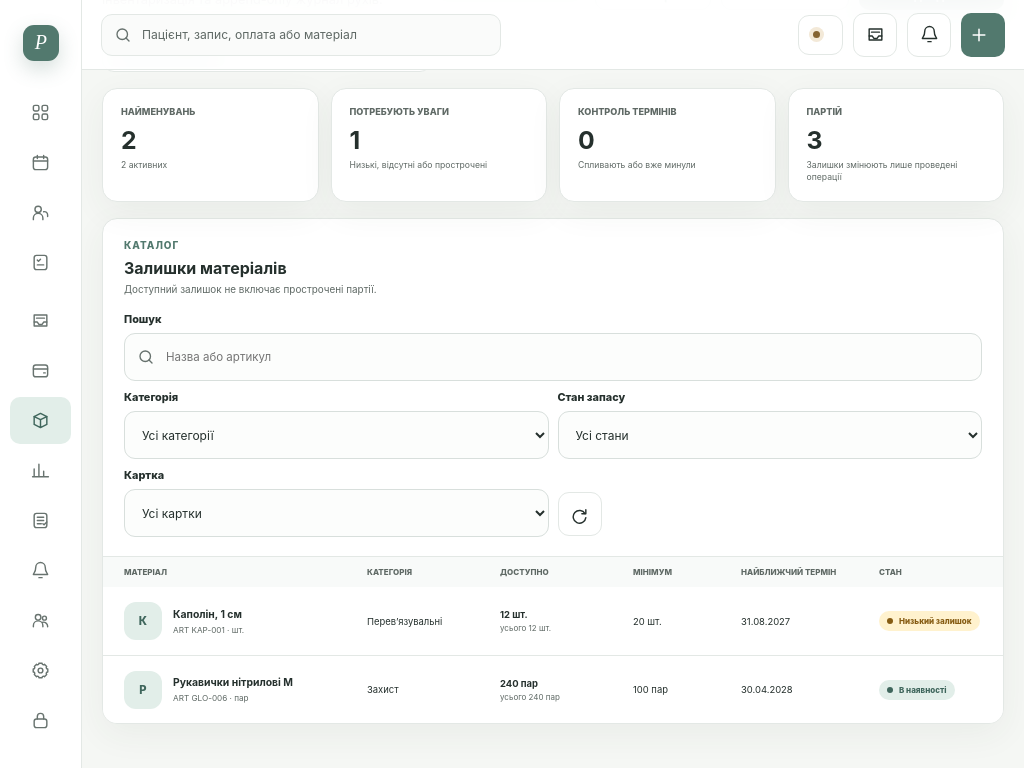
TP-502 receipt and locked manual write-off › blocks an over-stock write-off locally and protects the unsaved form
(page scrolled)
Click the button with aria-label "Відкрити Каполін, 1 см" at [143, 621], box [103,587,1023,655]
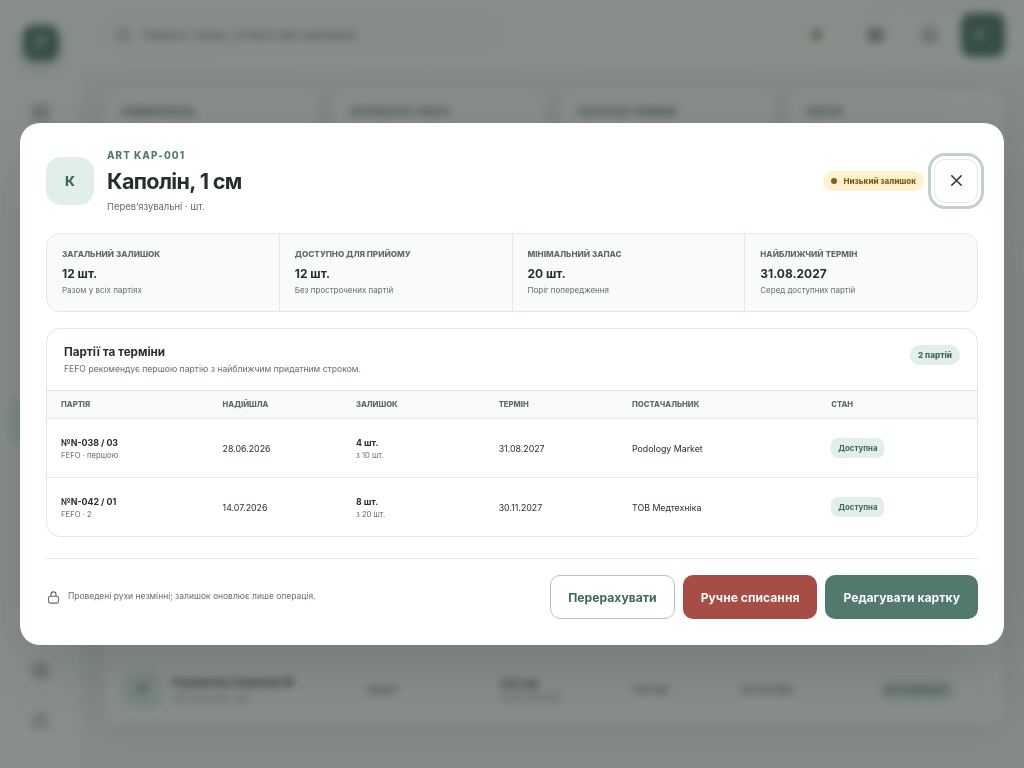
Click the button "Ручне списання" at [750, 597], box [683,575,818,619]
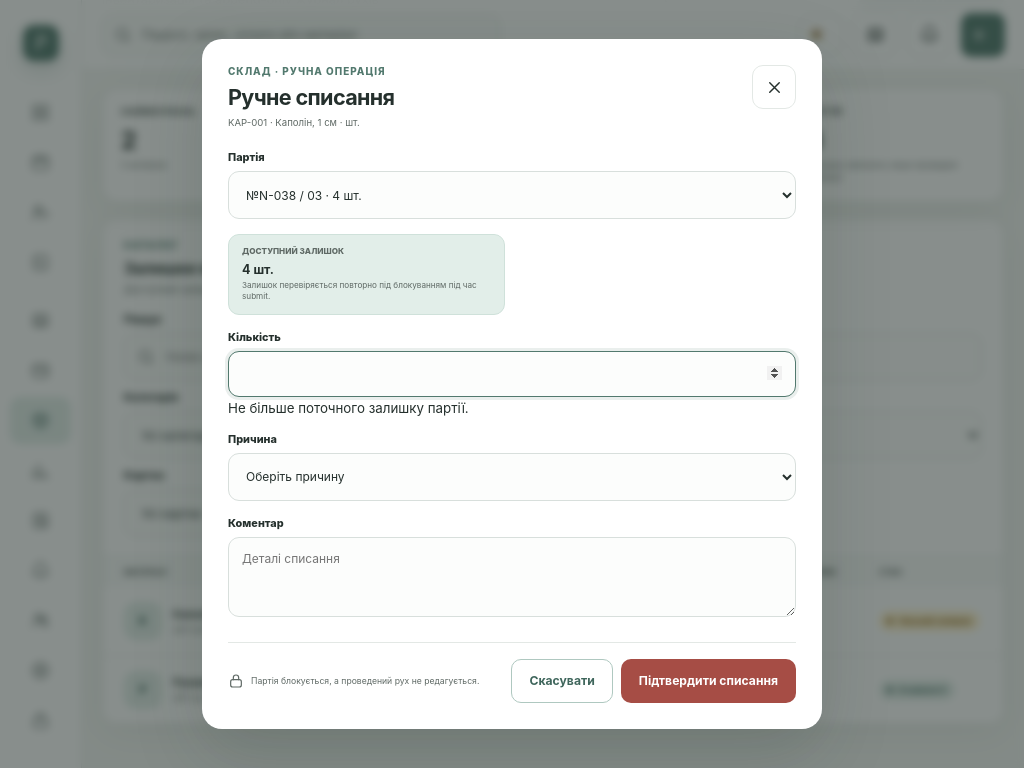
Type "99" into the number field named "Кількість списання" at [512, 374], box [228,351,796,397]
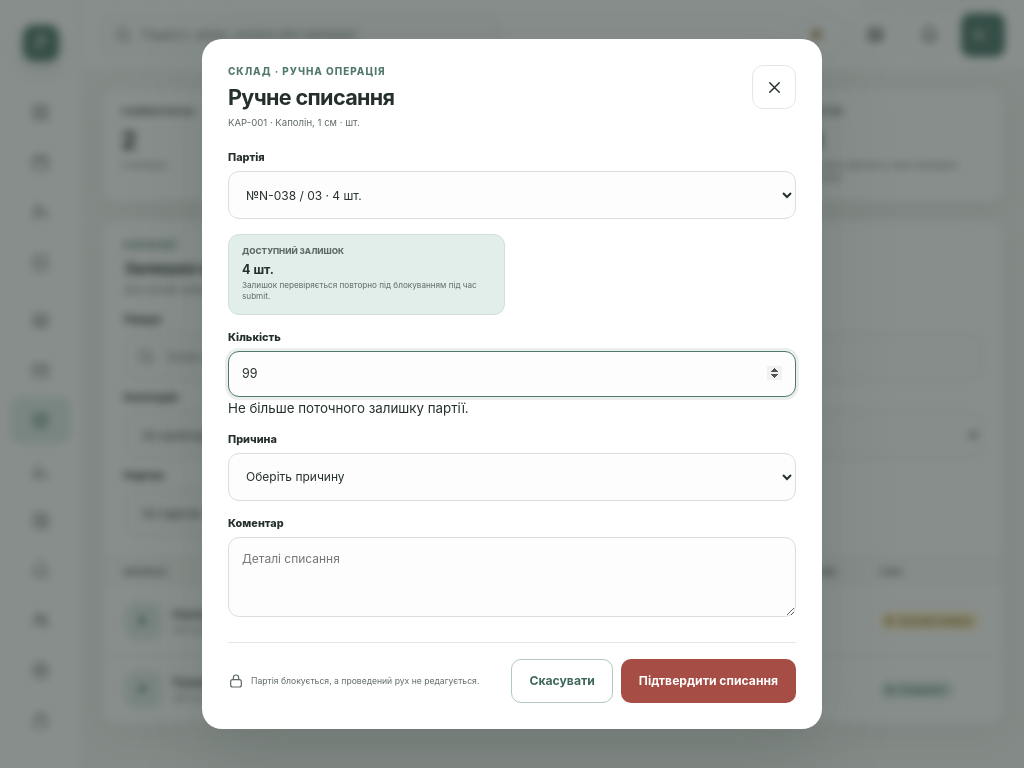
Select "Пошкодження" in the dropdown labelled "Причина" at [512, 477], box [228,453,796,501]
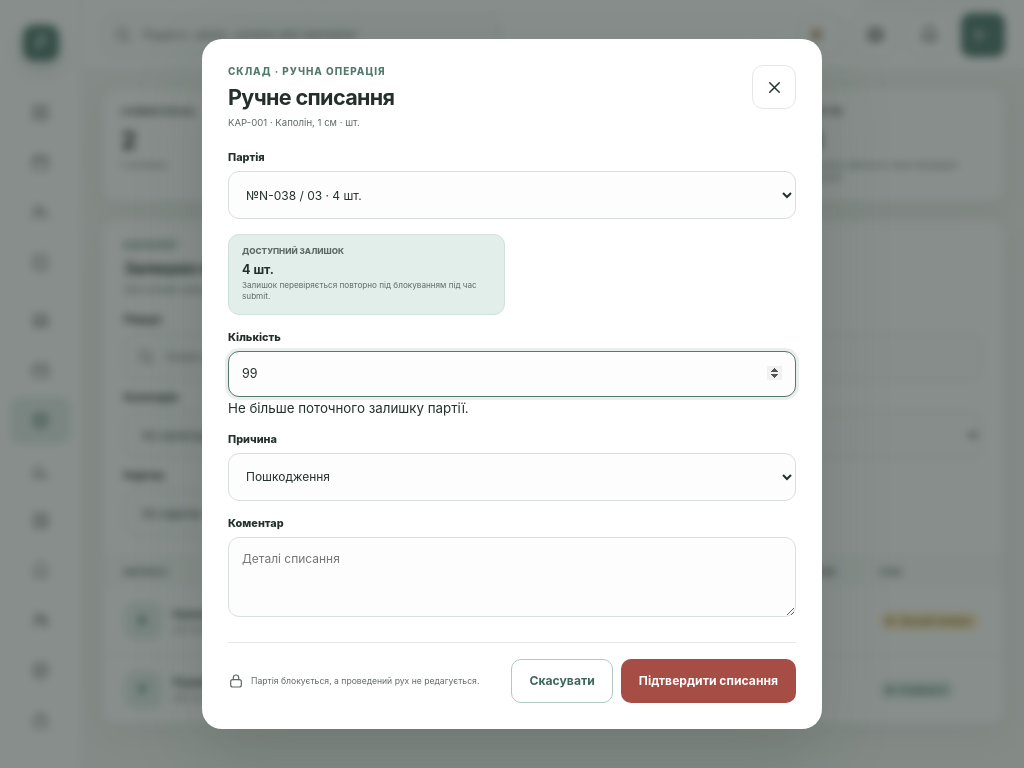
Click the button "Підтвердити списання" at [708, 681], box [621,659,796,703]
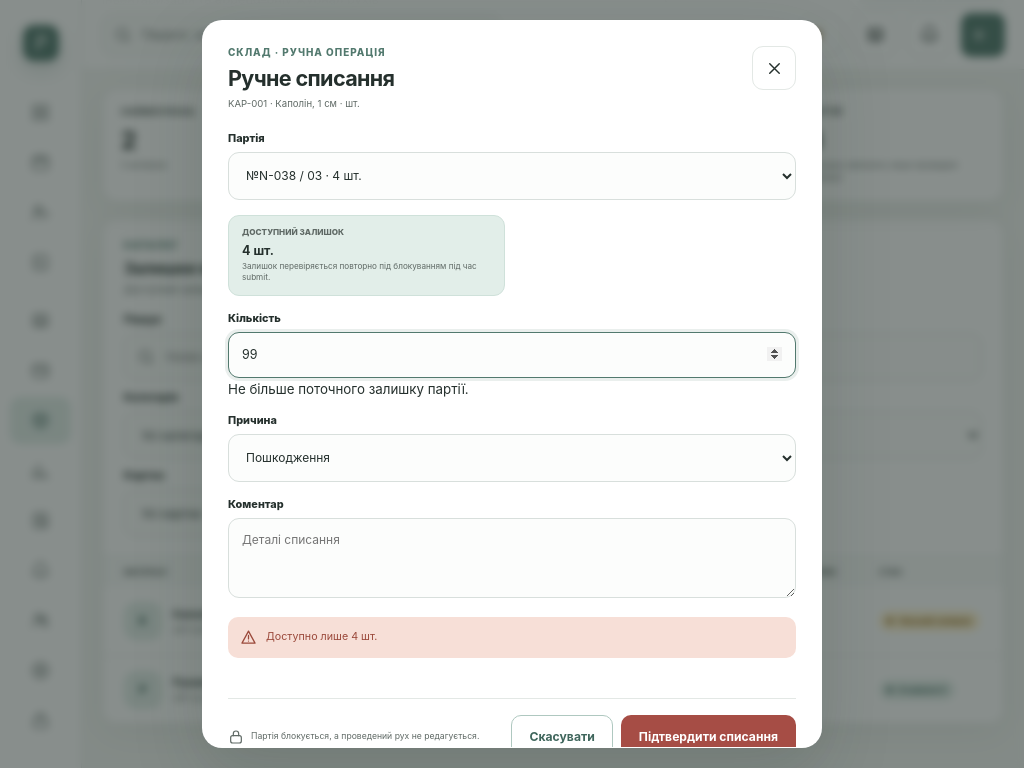
Expected: the message reads "Доступно лише 4 шт.", [266,630,377,643]
Click the button "Скасувати" at [562, 737], box [512,715,613,759]
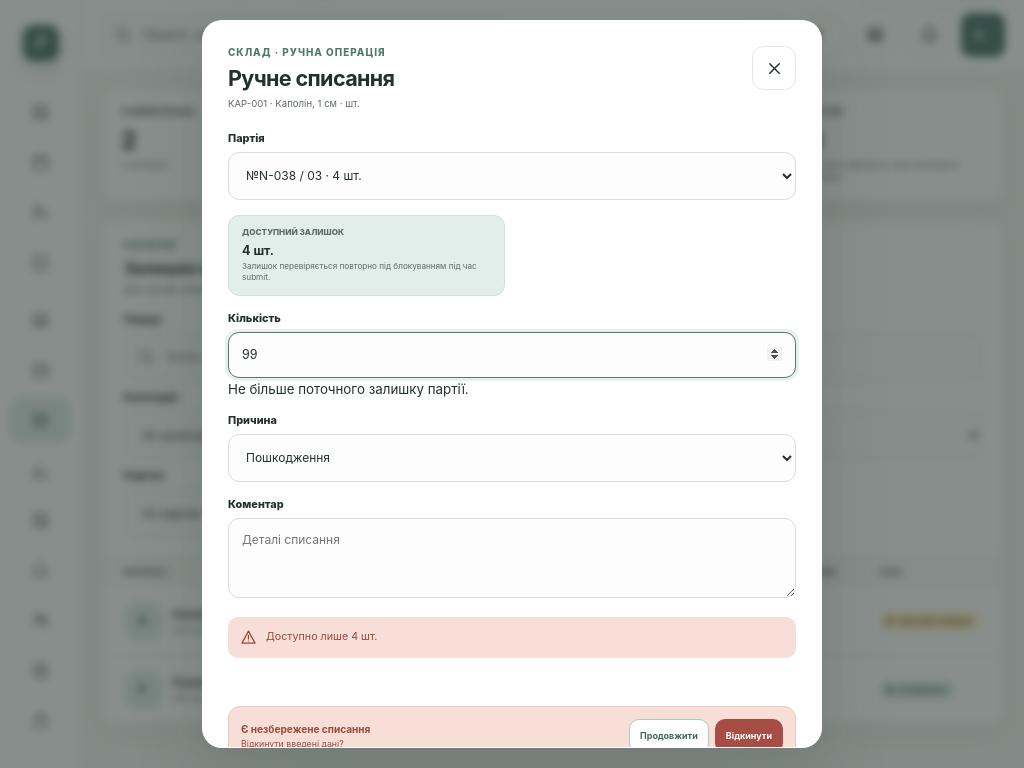
Expected: the text "Є незбережене списання" is shown, [241,723,370,735]
